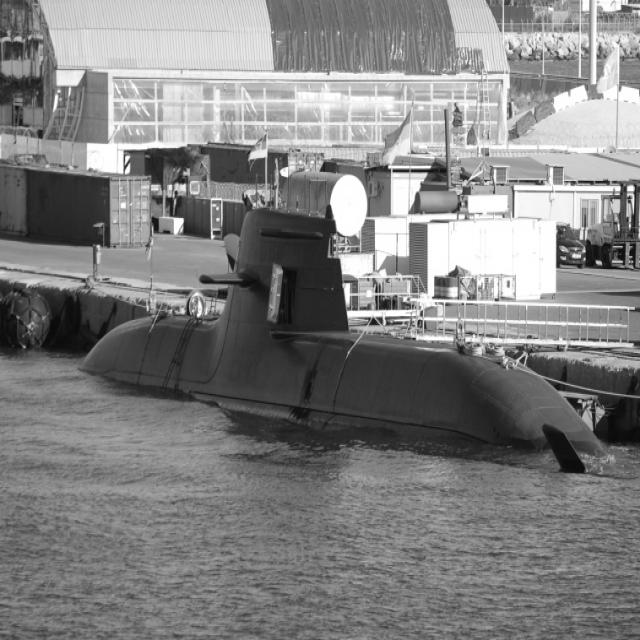submarine: (71, 199, 618, 473)
